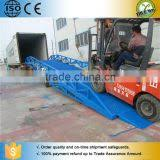Pallet Jack: (81, 16, 160, 123)
Yard Ramp: (23, 55, 155, 132)
